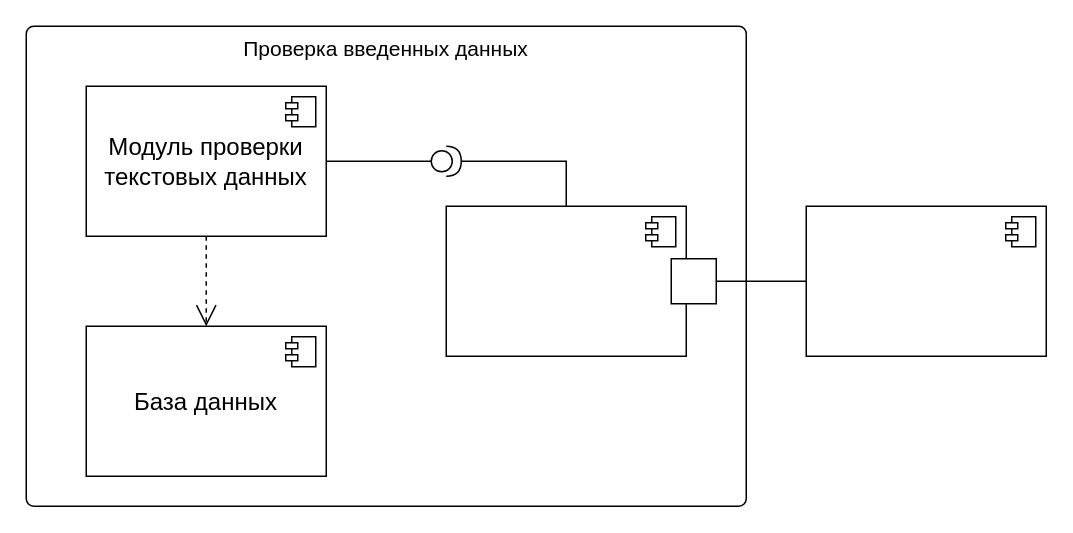
This 1073x533 diagram has some shape labels left out. The centre of each missing label's shape, as x and y in pixels:
"Введенные пользователем текстовые данные" goes at pixel 925 280.
"Модуль взаимодействия с клиентом" goes at pixel 565 280.
